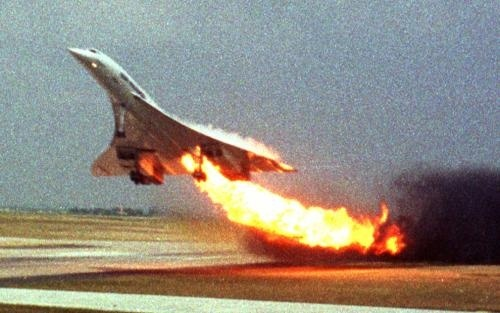fire: (175, 144, 404, 253)
